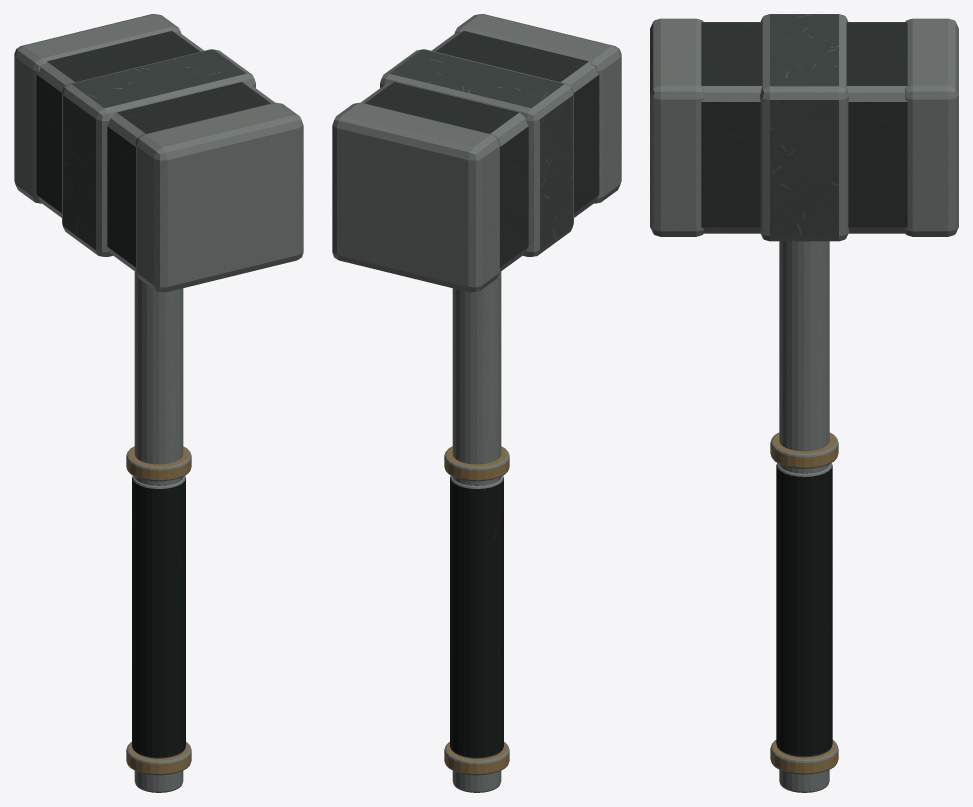
Rendered from hammer-t2.glb.
3 renders of one model, left to right at view 1: azimuth 30°, elevation 25°; view 2: azimuth 150°, elevation 25°; view 3: azimuth 270°, elevation 25°, orthographic. The views are drawn at different scales.
Parts seen in each view (by area): view 1: Replaceable impact shoe, Banded square head, Continuous two-hand wrap, Head spine, Steel shaft, Replaceable impact shoe.001, Grip ferrule.001, Grip ferrule; view 2: Replaceable impact shoe.001, Banded square head, Continuous two-hand wrap, Head spine, Steel shaft, Replaceable impact shoe, Grip ferrule.001, Grip ferrule; view 3: Banded square head, Head spine, Continuous two-hand wrap, Steel shaft, Replaceable impact shoe, Replaceable impact shoe.001, Grip ferrule.001, Grip ferrule.
Boxes of the visible parts, x1,y1,x2,y2 form: Replaceable impact shoe: [135, 102, 303, 292]; Banded square head: [36, 31, 274, 271]; Continuous two-hand wrap: [132, 476, 185, 758]; Head spine: [62, 49, 255, 256]; Steel shaft: [134, 271, 183, 792]; Replaceable impact shoe.001: [14, 14, 181, 203]; Grip ferrule.001: [126, 446, 191, 481]; Grip ferrule: [126, 742, 191, 775]; Replaceable impact shoe.001: [332, 102, 500, 292]; Banded square head: [361, 31, 599, 271]; Continuous two-hand wrap: [450, 476, 503, 758]; Head spine: [380, 49, 573, 256]; Steel shaft: [452, 271, 501, 792]; Replaceable impact shoe: [454, 14, 621, 203]; Grip ferrule.001: [444, 446, 509, 481]; Grip ferrule: [444, 742, 509, 775]; Banded square head: [701, 22, 907, 233]; Head spine: [759, 14, 849, 241]; Continuous two-hand wrap: [776, 463, 832, 757]; Steel shaft: [779, 241, 829, 792]; Replaceable impact shoe: [650, 18, 703, 236]; Replaceable impact shoe.001: [905, 18, 958, 236]; Grip ferrule.001: [770, 432, 838, 468]; Grip ferrule: [770, 740, 838, 774].
Size of the model in its own units: 0.47 by 1.99 by 0.76.
5 materials, 5 textured.
